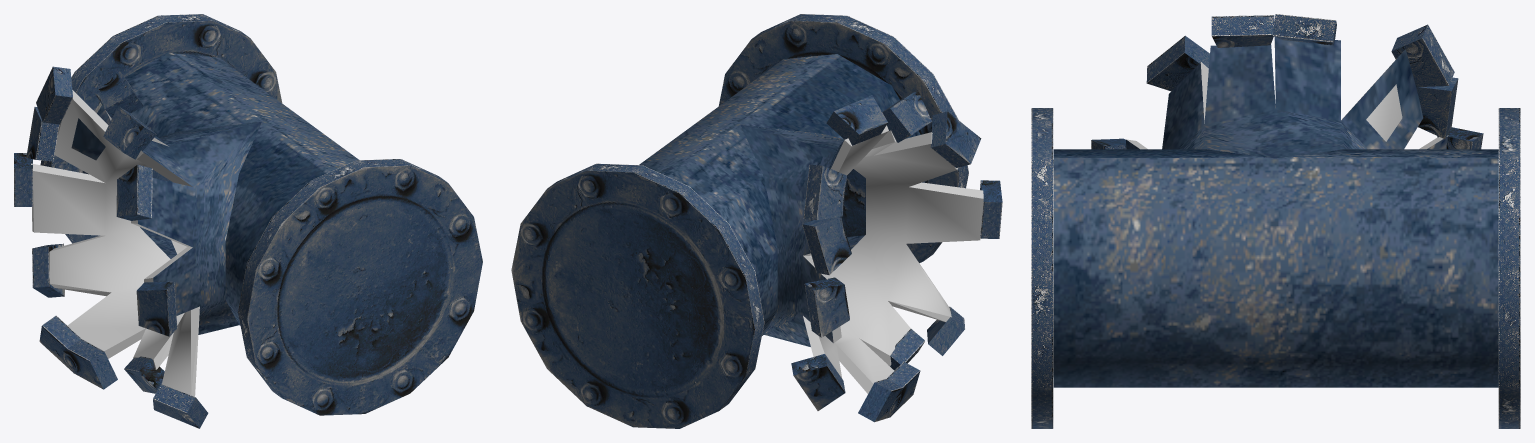
Rendered from valve_broken_blue.DAE.
3 renders of one model, left to right at view 1: azimuth 30°, elevation 25°; view 2: azimuth 150°, elevation 25°; view 3: azimuth 270°, elevation 25°, orthographic. The views are drawn at different scales.
Parts seen in each view (by area): view 1: Box345, Box346, Object557; view 2: Box345, Box346, Object557; view 3: Box346, Box345, Object557.
Boxes of the visible parts, x1,y1,x2,y2 form: Box345: (14, 14, 482, 428); Box346: (71, 52, 359, 334); Object557: (31, 90, 199, 396); Box345: (511, 14, 1002, 428); Box346: (639, 54, 924, 346); Object557: (803, 125, 983, 393); Box346: (1053, 37, 1498, 387); Box345: (1031, 14, 1520, 428); Object557: (1053, 41, 1448, 376).
Size of the model in its own units: 0.8559 by 1 by 0.7709.
